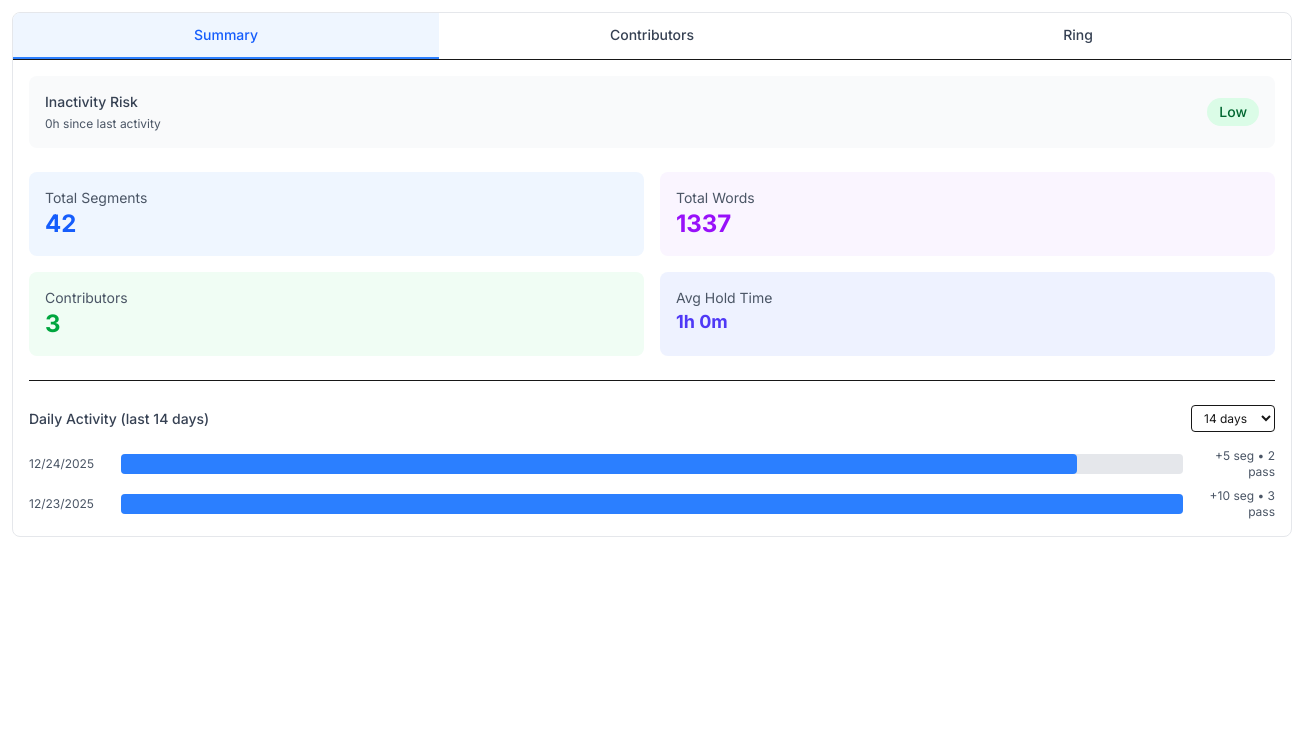
Test: AnalyticsPanel › displays tab-aware error message when contributors fetch fails
Click Contributors tab
Click the tab "Contributors". click: x=652, y=36
box: [439, 13, 865, 59]
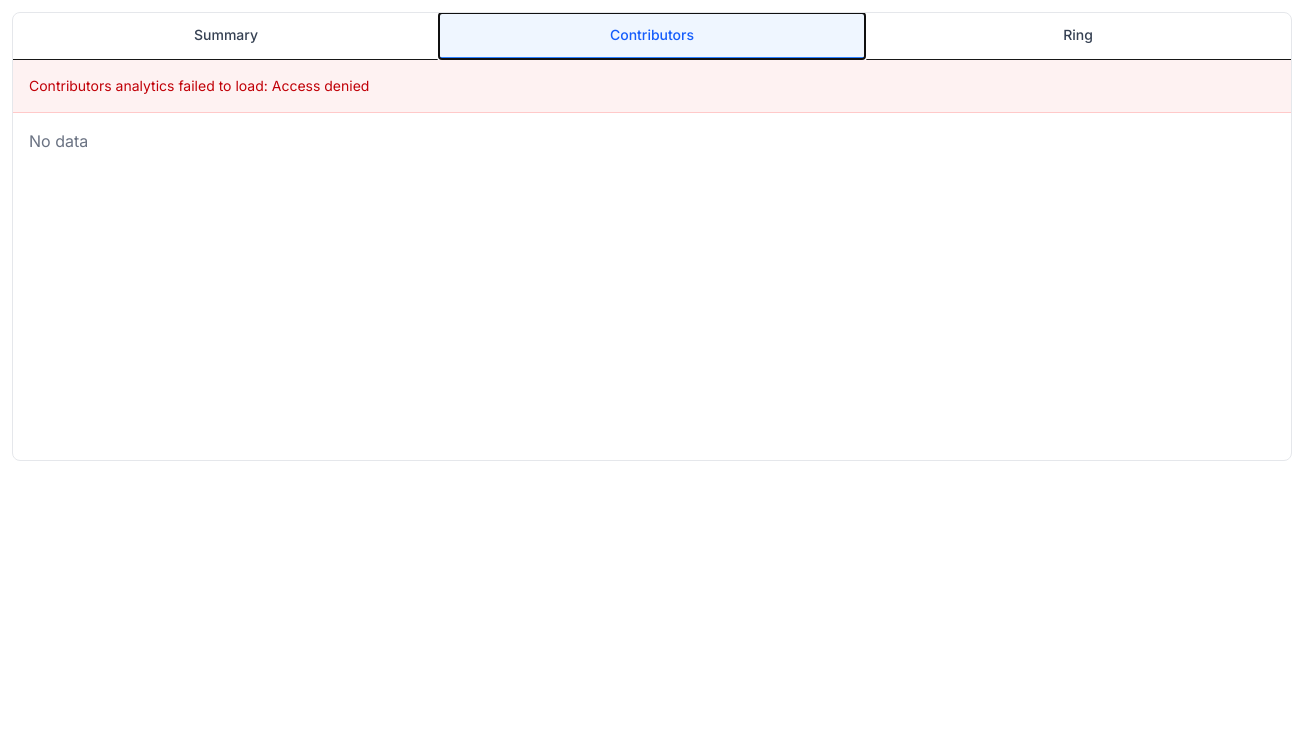
Result: the message shows "Contributors analytics failed to load" at [29, 77, 369, 94]
Result: the message shows "Access denied" at [29, 77, 369, 94]
